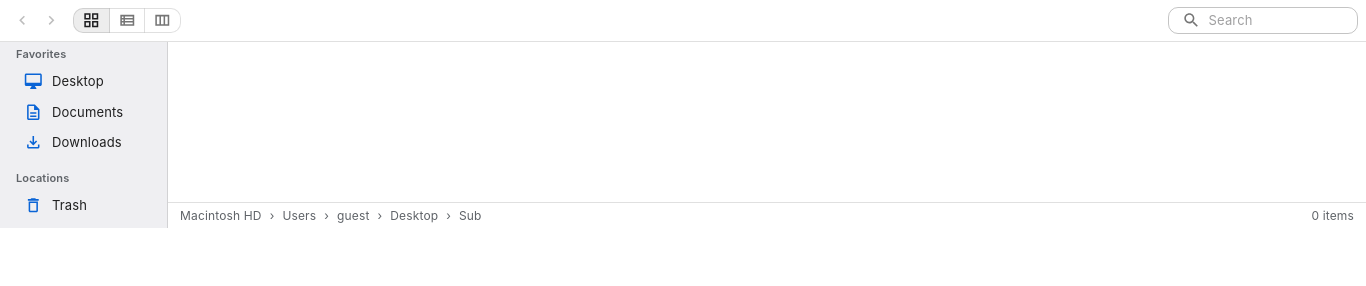
Test: Finder views › shows folders as columns, previews the selected file, and creates folders in a column
Click the button named "as Columns" at (163, 20), box [144, 8, 181, 33]
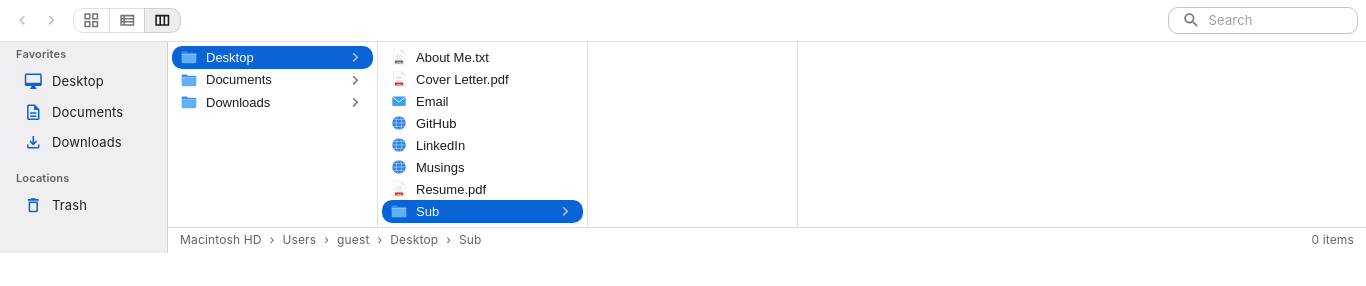
expect the list named "guest" is shown: met, box [168, 42, 378, 227]
Click the button "TXT About Me.txt" at (482, 57), box [382, 46, 583, 68]
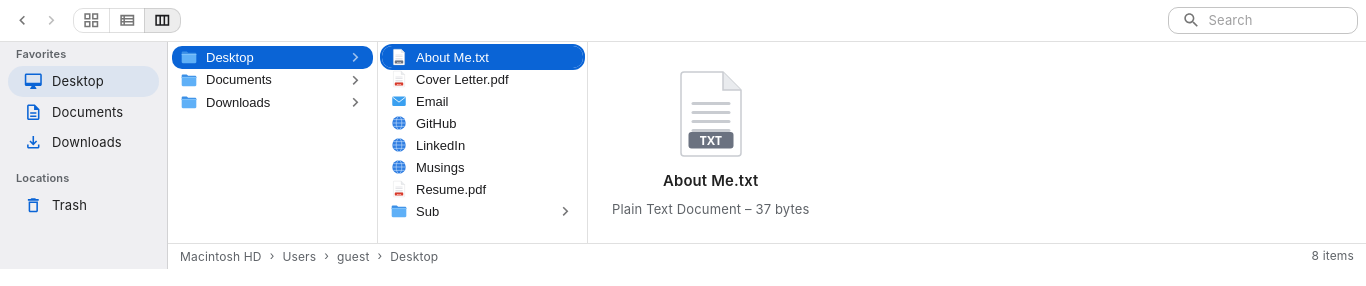
expect the text "Plain Text Document – 37 bytes" is shown: met, box [612, 200, 810, 219]
Click the 1st button "Documents" at (272, 80), box [172, 69, 373, 91]
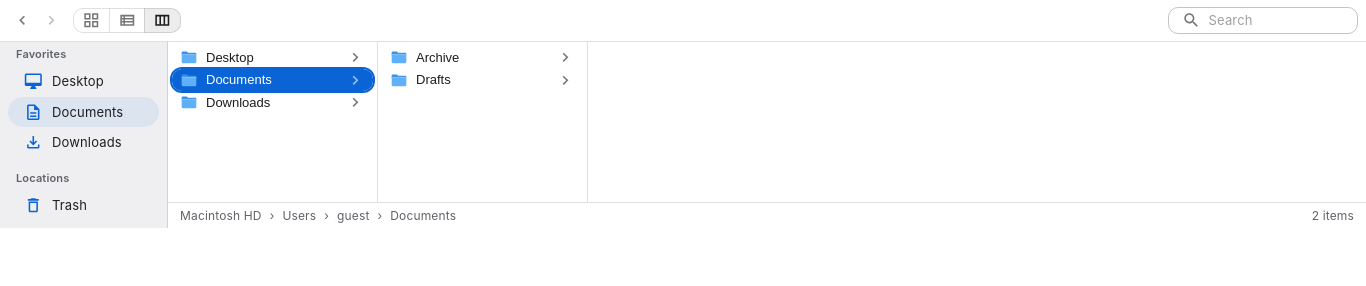
expect the text "Documents" below "Favorites" is shown: met, box [52, 104, 123, 120]
expect the button "Drafts" is shown: met, box [382, 69, 583, 91]
Right-click the list named "Documents" at (483, 122), box [378, 42, 588, 202]
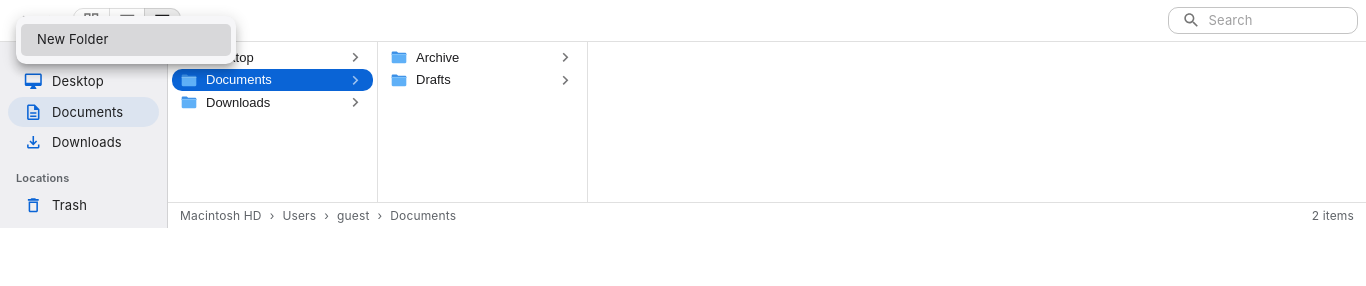
Click the menu item "New Folder" at (126, 40), box [21, 24, 231, 56]
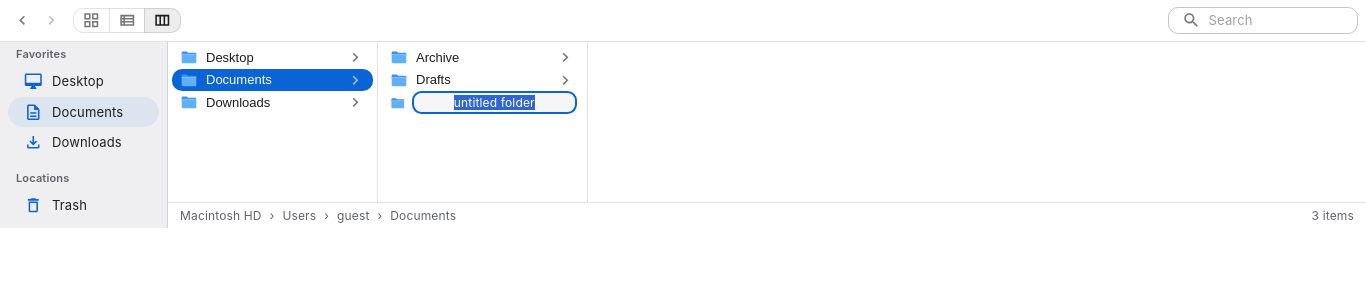
Replace the text in the field named "Name" with "Column Folder" at (494, 103), box [418, 93, 571, 112]
Then press Enter
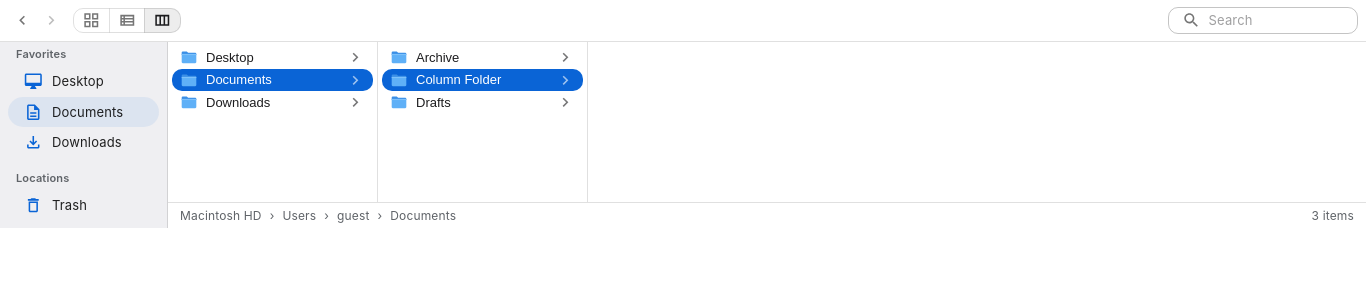
expect the button "Column Folder" is shown: met, box [382, 69, 583, 91]
